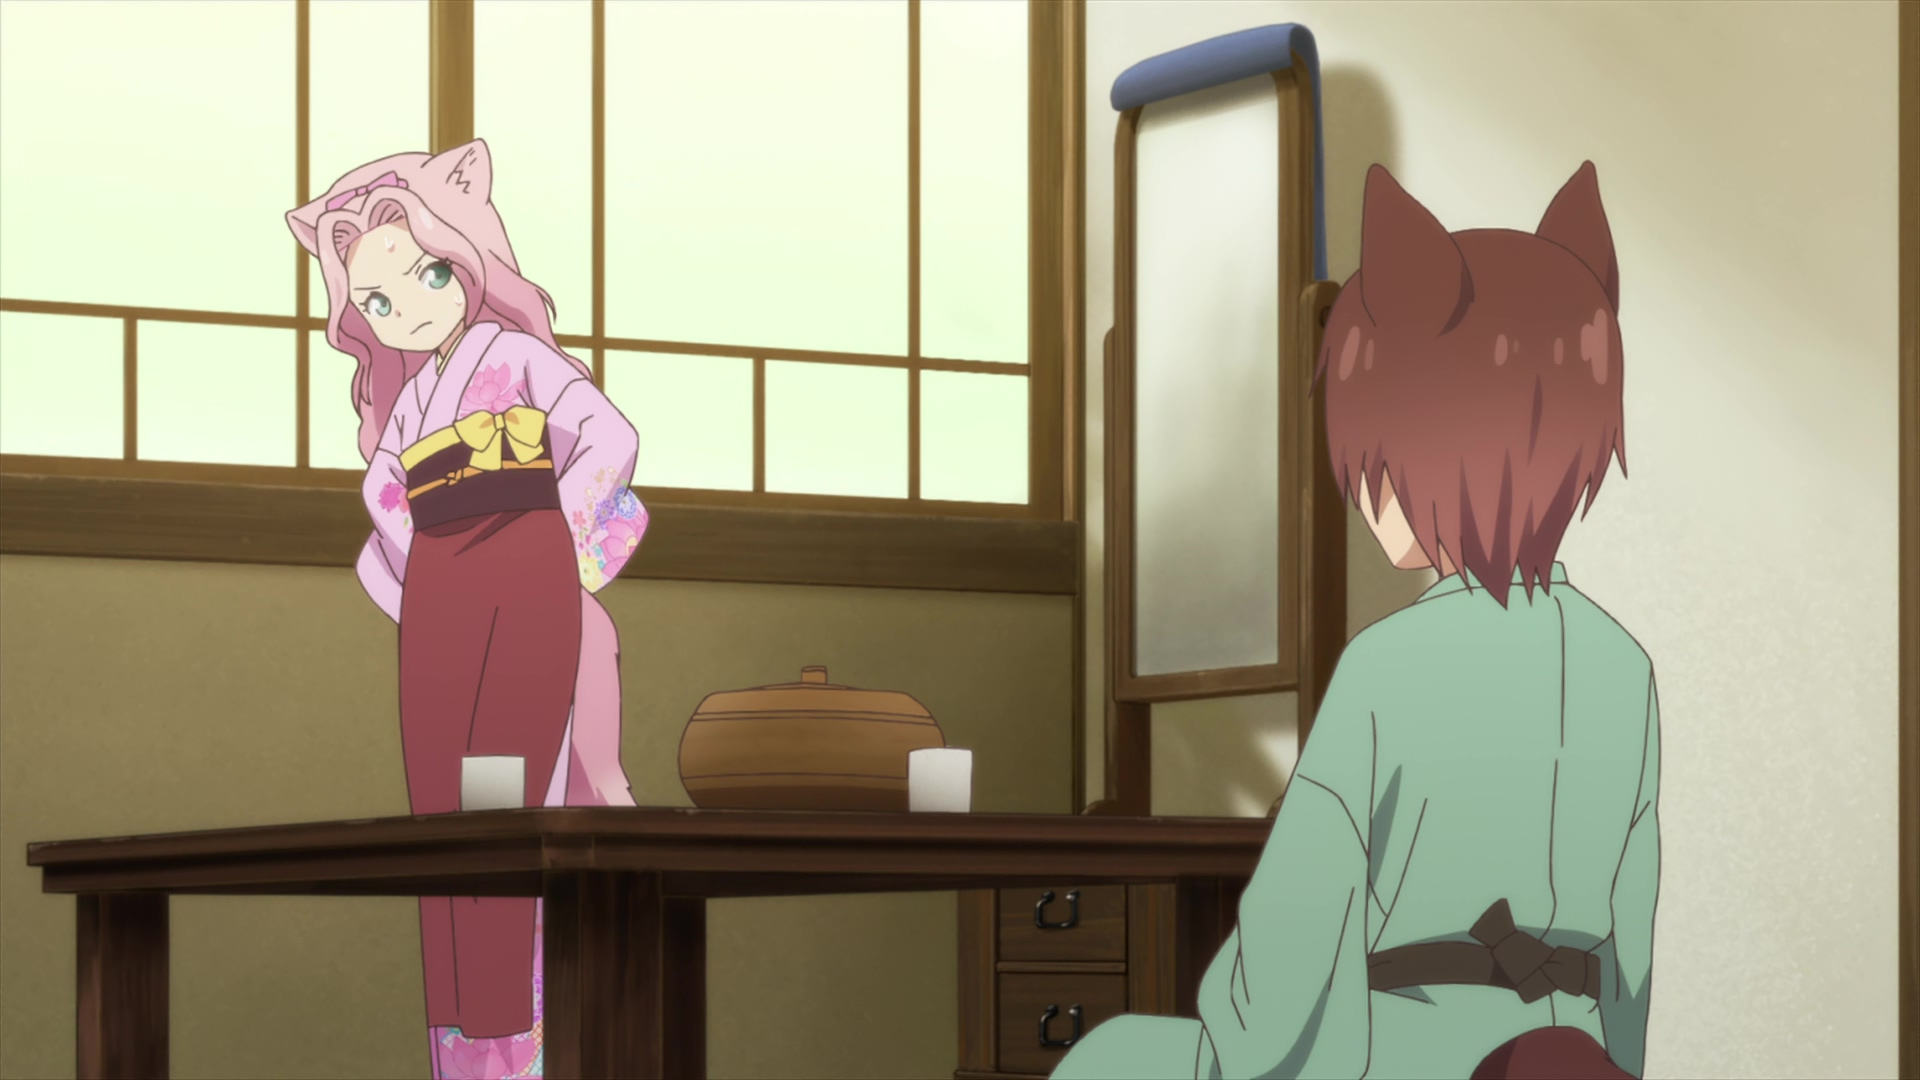枣: (1048, 160, 1662, 1080)
莲: (286, 138, 651, 1077)
